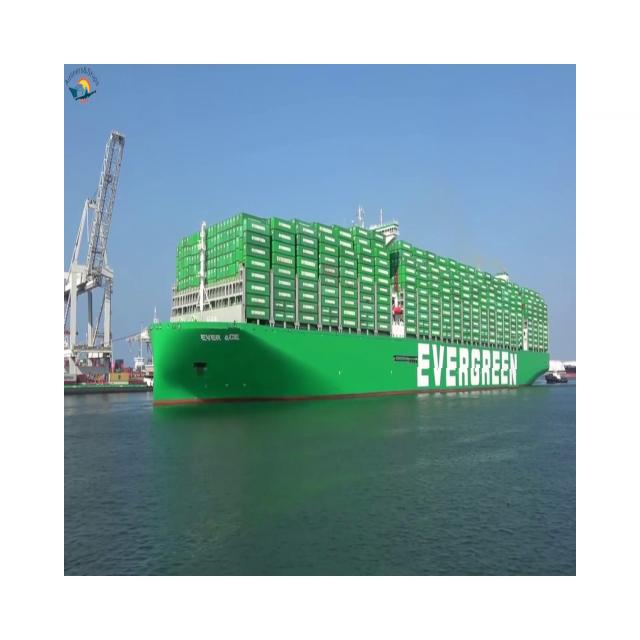OCR: (407, 333, 520, 398), (193, 323, 240, 354)
